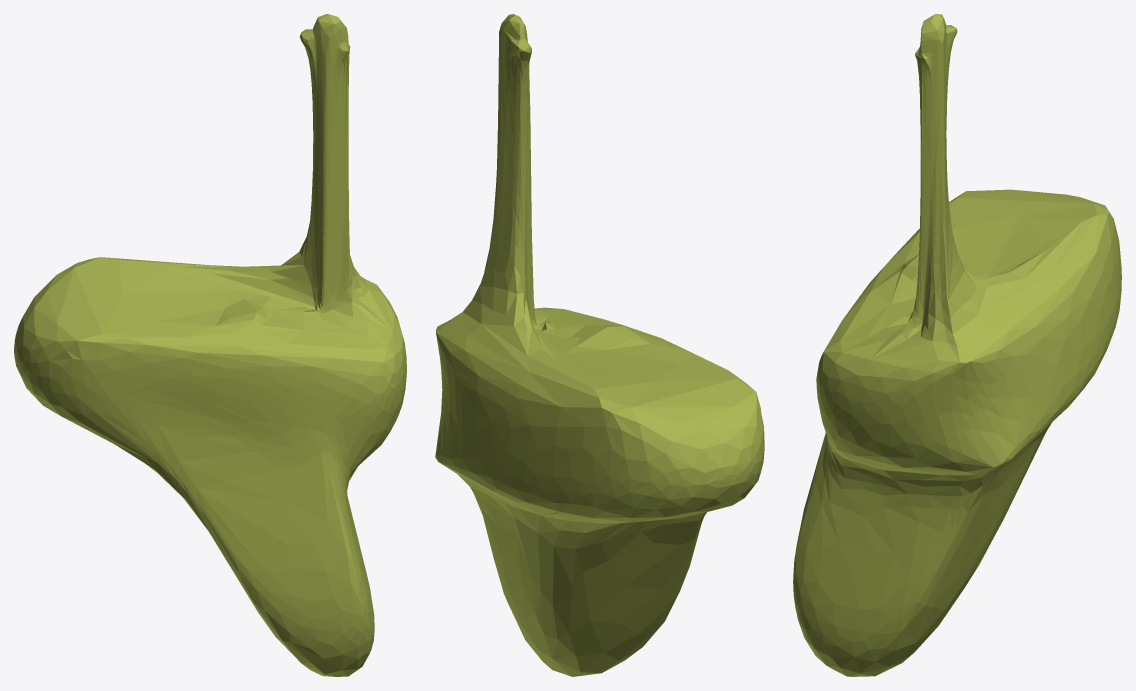
3 views of the same model, side by side, from view 1: azimuth 30°, elevation 25°; view 2: azimuth 150°, elevation 25°; view 3: azimuth 270°, elevation 25° (orthographic). The views are drawn at different scales.
Parts seen in each view (by area): view 1: 880_Cube.3557; view 2: 880_Cube.3557; view 3: 880_Cube.3557.
Boxes of the visible parts, x1,y1,x2,y2 form: 880_Cube.3557: (14, 14, 406, 676); 880_Cube.3557: (435, 14, 764, 676); 880_Cube.3557: (793, 14, 1121, 676).
Bounding box in the file's own units: 10.58 × 19.57 × 8.64.
